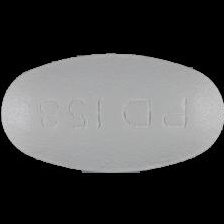49299-1093: (0, 0, 224, 224)
